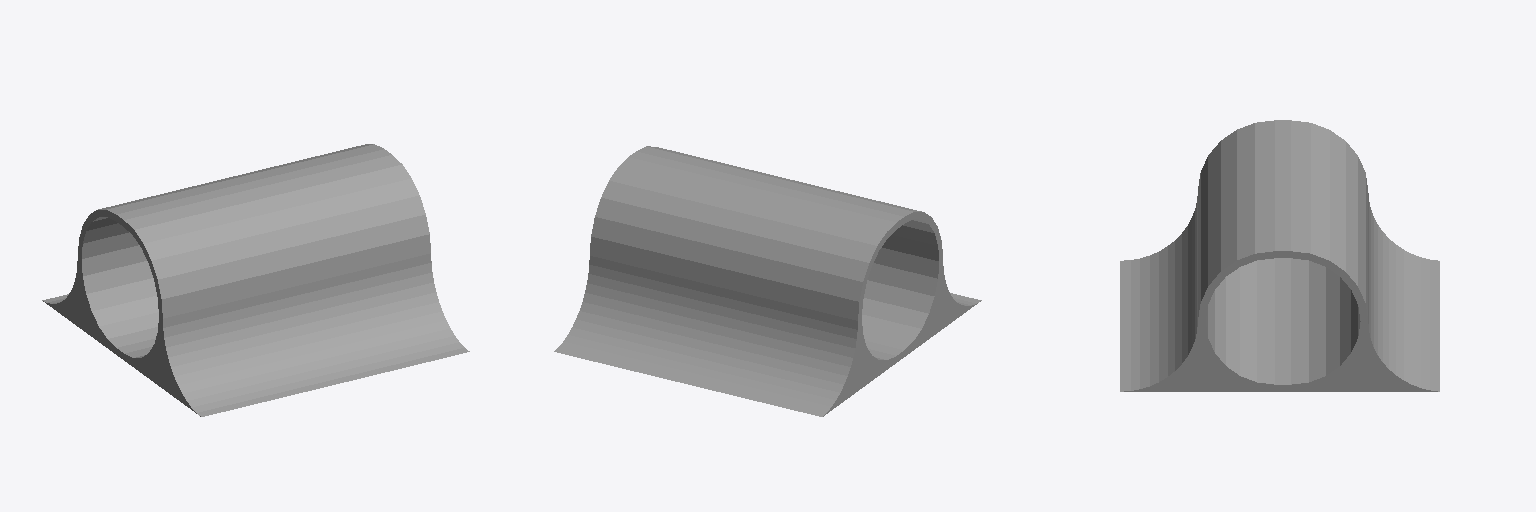
3 renders of one model, left to right at view 1: azimuth 30°, elevation 25°; view 2: azimuth 150°, elevation 25°; view 3: azimuth 270°, elevation 25°, orthographic.
Visible parts, largest first — view 1: Mesh1 skpF41B1 tube_the_tube__skate_parkbuild_1 Model; view 2: Mesh1 skpF41B1 tube_the_tube__skate_parkbuild_1 Model; view 3: Mesh1 skpF41B1 tube_the_tube__skate_parkbuild_1 Model.
Boxes of the visible parts, <box> form: Mesh1 skpF41B1 tube_the_tube__skate_parkbuild_1 Model: <box>42,144,469,416</box>; Mesh1 skpF41B1 tube_the_tube__skate_parkbuild_1 Model: <box>554,146,981,416</box>; Mesh1 skpF41B1 tube_the_tube__skate_parkbuild_1 Model: <box>1120,120,1439,391</box>.
Bounding box in the file's own units: 10 × 5 × 10.3.